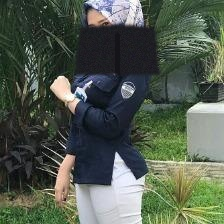Cadar_Niqab: (75, 0, 159, 74)
